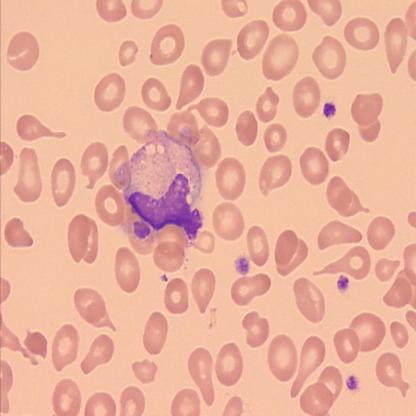Metamyelocyte: (114, 127, 205, 246)
